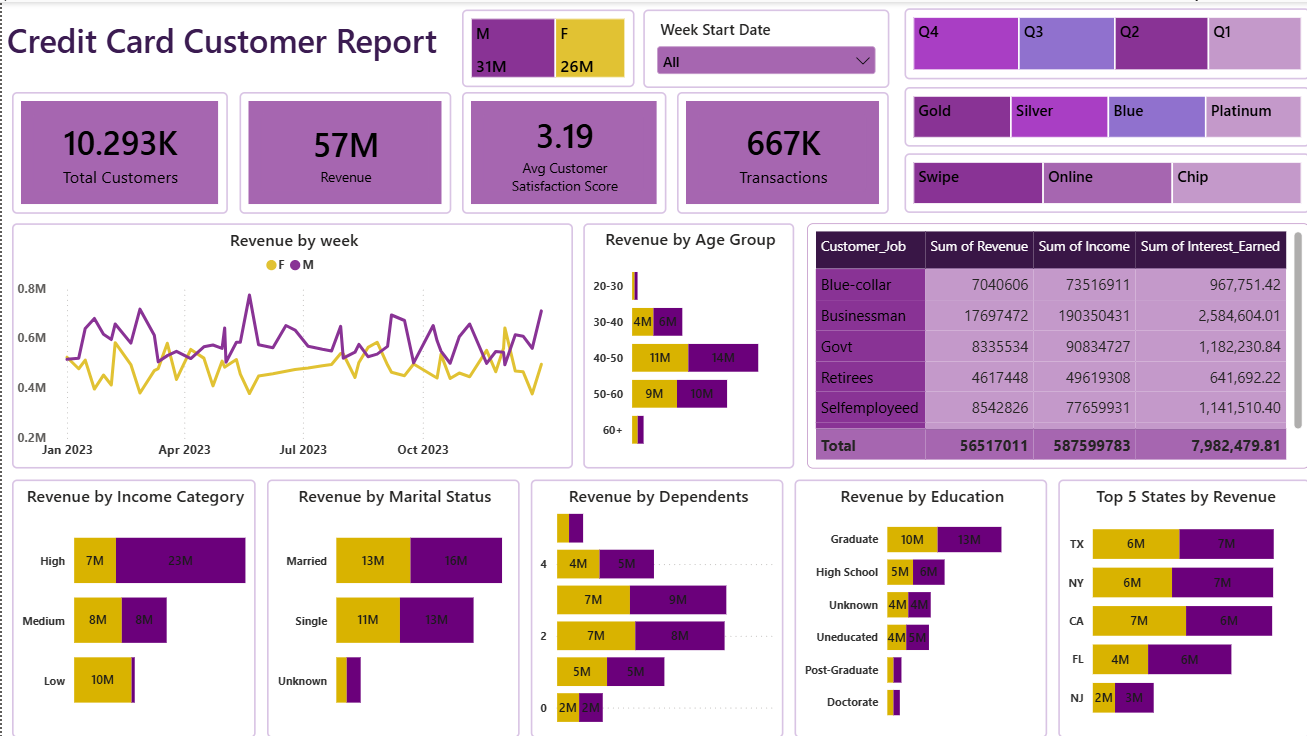

What the dashboard file says about the page in this screenshot:
{"tool":"powerbi","page":{"name":"CC Customer","canvas":[1280,720],"ordinal":2},"visuals":[{"type":"treemap","fields":{"Group":["credit_card_db cc_detail.Card_Category"],"Values":["Avg(credit_card_db cc_detail.Client_Num)"]},"box":[882.9,83.2,397.4,58.7],"z":0},{"type":"slicer","fields":{"Values":["credit_card_db cc_detail.Week_Start_Date"]},"box":[627.3,7.3,240.9,77],"z":1000},{"type":"textbox","box":[0,11,440.2,64.8],"z":2000},{"type":"cardVisual","fields":{"Data":["Sum(credit_card_db cc_detail.Revenue)"]},"box":[232.3,88,207.5,119.4],"z":3000},{"type":"cardVisual","fields":{"Data":["Avg(credit_card_db cust_detail.Cust_Satisfaction_Score)"]},"box":[450,88,200.3,119.4],"z":4000},{"type":"cardVisual","fields":{"Data":["Sum(credit_card_db cc_detail.Total_Trans_Vol)"]},"box":[659.9,88.3,207.5,119.4],"z":5000},{"type":"cardVisual","fields":{"Data":["CountNonNull(credit_card_db cust_detail.Client_Num)"]},"box":[9.8,88,211.1,119.4],"z":6000},{"type":"treemap","fields":{"Group":["credit_card_db cc_detail.Qtr"],"Values":["Avg(credit_card_db cc_detail.Client_Num)"]},"box":[882.9,6.1,397.4,69.7],"z":7000},{"type":"lineChart","title":"Revenue by week","fields":{"Category":["credit_card_db cc_detail.Week_Start_Date.Variation.Date Hierarchy.Year","credit_card_db cc_detail.Week_Start_Date.Variation.Date Hierarchy.Month","credit_card_db cc_detail.Week_Start_Date.Variation.Date Hierarchy.Day"],"Series":["credit_card_db cust_detail.Gender"],"Y":["Sum(credit_card_db cc_detail.Revenue)"]},"box":[9.8,216.4,549.1,239.7],"z":8000},{"type":"tableEx","fields":{"Values":["credit_card_db cust_detail.Customer_Job","Sum(credit_card_db cc_detail.Revenue)","Sum(credit_card_db cust_detail.Income)","Sum(credit_card_db cc_detail.Interest_Earned)"]},"box":[787.5,216.4,492.8,239.7],"z":9000},{"type":"treemap","fields":{"Group":["credit_card_db cust_detail.Gender"],"Values":["Sum(credit_card_db cc_detail.Revenue)"]},"box":[450,7.3,168.8,75.8],"z":10000},{"type":"barChart","title":"Revenue by Income Category","fields":{"Category":["credit_card_db cust_detail.IncomeCategory"],"Series":["credit_card_db cust_detail.Gender"],"Y":["Sum(credit_card_db cc_detail.Revenue)"]},"box":[9.8,467.1,238.5,253.1],"z":11000},{"type":"barChart","title":"Revenue by Marital Status","fields":{"Category":["credit_card_db cust_detail.Marital_Status"],"Series":["credit_card_db cust_detail.Gender"],"Y":["Sum(credit_card_db cc_detail.Revenue)"]},"box":[259.2,467.1,247,253.1],"z":12000},{"type":"barChart","title":"Revenue by Dependents","fields":{"Category":["credit_card_db cust_detail.Dependent_Count"],"Series":["credit_card_db cust_detail.Gender"],"Y":["Sum(credit_card_db cc_detail.Revenue)"]},"box":[517.3,467.1,247,253.1],"z":13000},{"type":"barChart","title":"Revenue by Education","fields":{"Category":["credit_card_db cust_detail.Education_Level"],"Series":["credit_card_db cust_detail.Gender"],"Y":["Sum(credit_card_db cc_detail.Revenue)"]},"box":[775.3,467.1,247,253.1],"z":14000},{"type":"barChart","title":"Top 5 States by Revenue","fields":{"Category":["credit_card_db cust_detail.state_cd"],"Series":["credit_card_db cust_detail.Gender"],"Y":["Sum(credit_card_db cc_detail.Revenue)"]},"box":[1033.3,467.1,247,253.1],"z":15000},{"type":"barChart","title":"Revenue by Age Group","fields":{"Category":["credit_card_db cust_detail.AgeGroup"],"Series":["credit_card_db cust_detail.Gender"],"Y":["Sum(credit_card_db cc_detail.Revenue)"]},"box":[568.6,216.4,206.7,239.7],"z":16000},{"type":"treemap","fields":{"Group":["credit_card_db cc_detail.Use_Chip"],"Values":["Avg(credit_card_db cc_detail.Client_Num)"]},"box":[882.9,148,397.4,58.7],"z":17000}]}

Visuals, with their boxes in screenshot pixels (x1, y1, x2, y2), scaled from the page's 1280x720 canvas onto the 1307x736 screenshot:
treemap - credit_card_db cc_detail.Card_Category x Avg(credit_card_db cc_detail.Client_Num): rect(902, 85, 1306, 145)
slicer - credit_card_db cc_detail.Week_Start_Date: rect(641, 7, 887, 86)
textbox: rect(0, 11, 449, 77)
cardVisual - Sum(credit_card_db cc_detail.Revenue): rect(237, 90, 449, 212)
cardVisual - Avg(credit_card_db cust_detail.Cust_Satisfaction_Score): rect(459, 90, 664, 212)
cardVisual - Sum(credit_card_db cc_detail.Total_Trans_Vol): rect(674, 90, 886, 212)
cardVisual - CountNonNull(credit_card_db cust_detail.Client_Num): rect(10, 90, 226, 212)
treemap - credit_card_db cc_detail.Qtr x Avg(credit_card_db cc_detail.Client_Num): rect(902, 6, 1306, 77)
"Revenue by week" lineChart: rect(10, 221, 571, 466)
tableEx - credit_card_db cust_detail.Customer_Job x Sum(credit_card_db cc_detail.Revenue): rect(804, 221, 1306, 466)
treemap - credit_card_db cust_detail.Gender x Sum(credit_card_db cc_detail.Revenue): rect(459, 7, 632, 85)
"Revenue by Income Category" barChart: rect(10, 477, 254, 735)
"Revenue by Marital Status" barChart: rect(265, 477, 517, 735)
"Revenue by Dependents" barChart: rect(528, 477, 780, 735)
"Revenue by Education" barChart: rect(792, 477, 1044, 735)
"Top 5 States by Revenue" barChart: rect(1055, 477, 1306, 735)
"Revenue by Age Group" barChart: rect(581, 221, 792, 466)
treemap - credit_card_db cc_detail.Use_Chip x Avg(credit_card_db cc_detail.Client_Num): rect(902, 151, 1306, 211)
